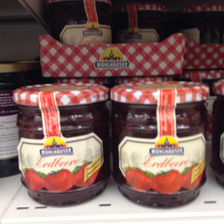jam: (109, 80, 210, 209), (14, 82, 111, 207)
